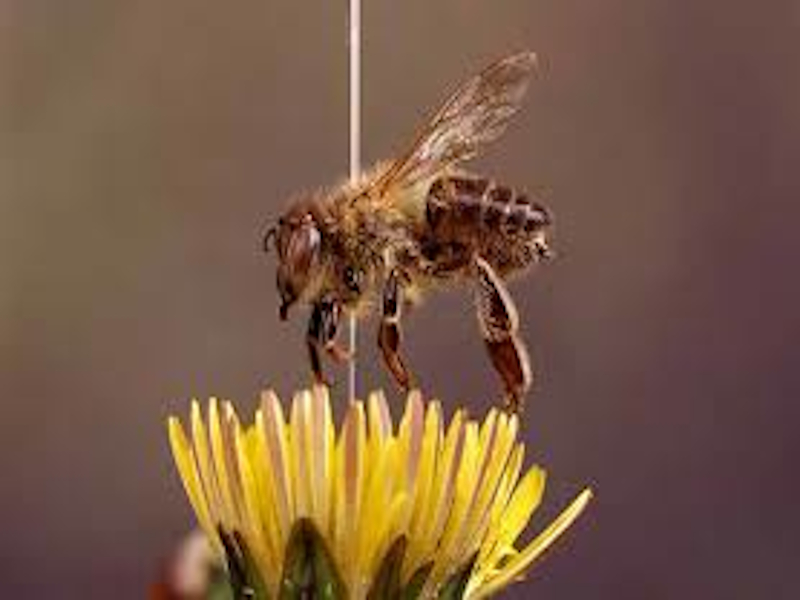abeja: (221, 39, 603, 447)
